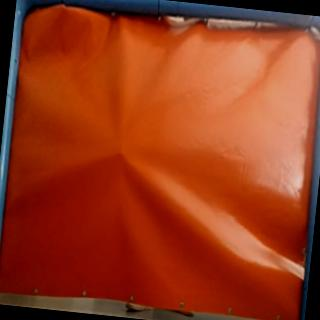Hit-hRxx: (114, 146, 128, 160)
